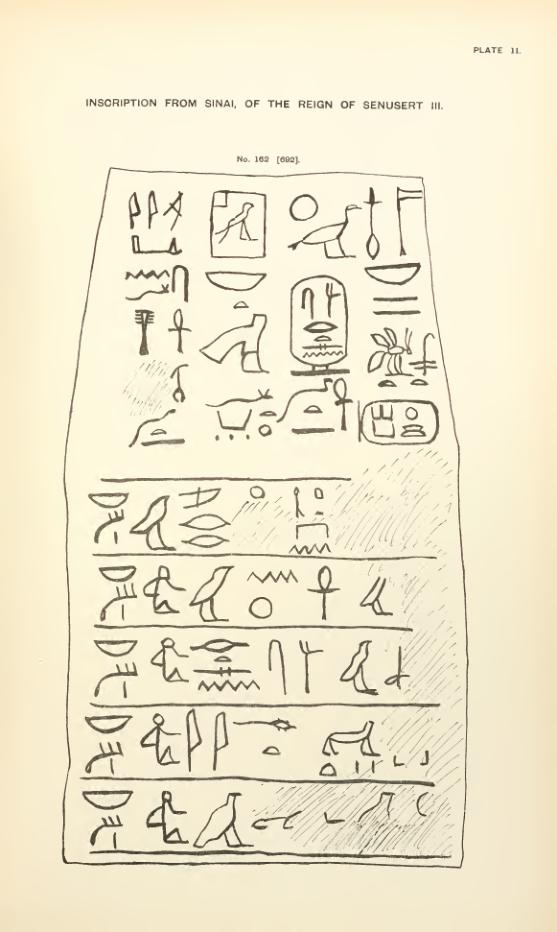circle: (286, 271, 353, 379), (352, 392, 443, 450)
